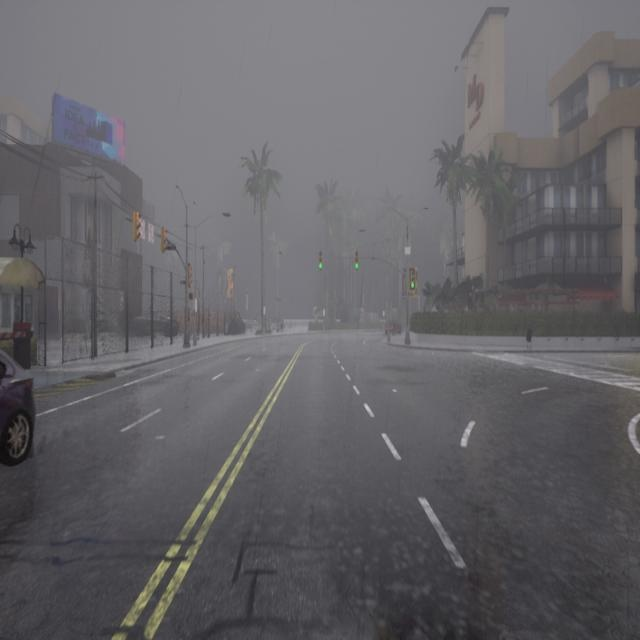bien_chi_dan: (406, 266, 418, 293), (133, 210, 142, 241), (159, 227, 168, 250), (353, 246, 360, 272), (186, 262, 193, 286), (318, 247, 324, 270), (133, 209, 141, 222), (406, 283, 416, 291), (160, 227, 168, 237), (315, 262, 324, 270), (188, 262, 194, 274), (353, 263, 360, 271)
